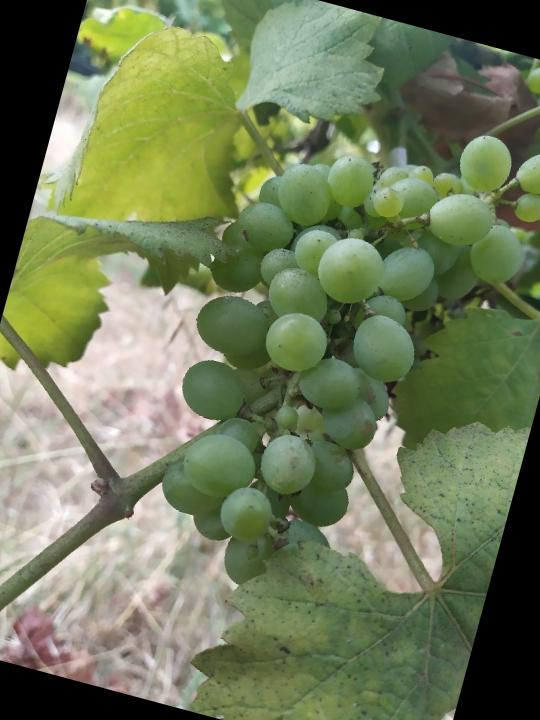grape: (128, 72, 540, 642)
